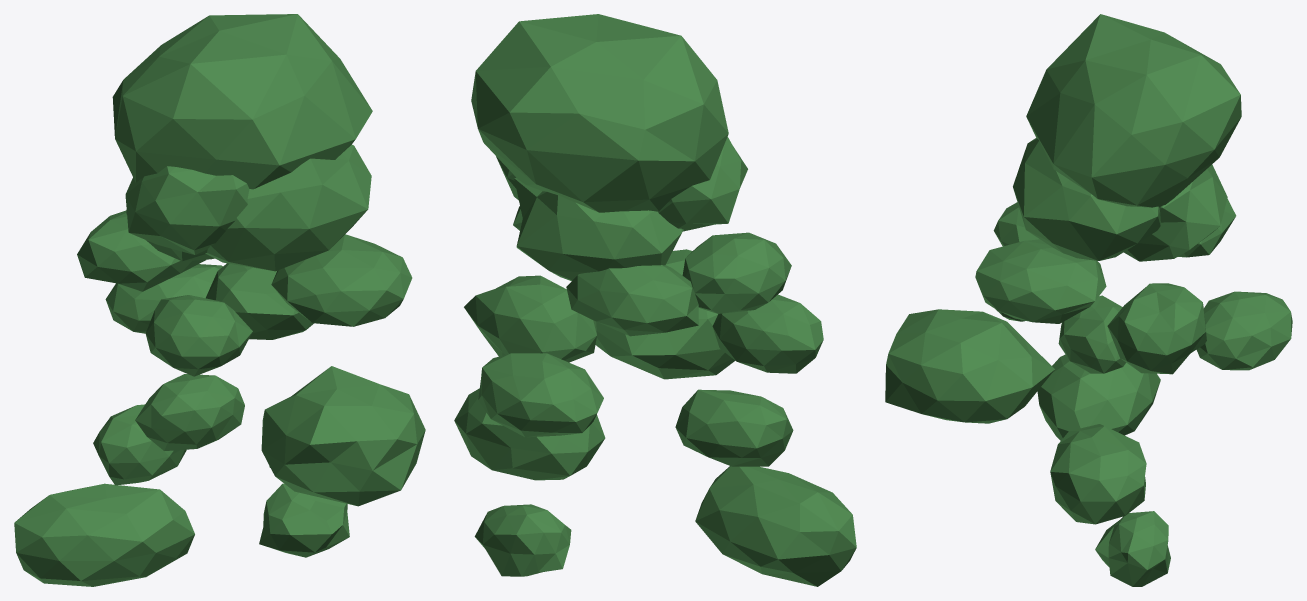
The model's file is Hojas1.glb.
The picture shows the model from 3 angles, left to right: view 1: azimuth 30°, elevation 25°; view 2: azimuth 150°, elevation 25°; view 3: azimuth 270°, elevation 25°; orthographic projection. The views are drawn at different scales.
Visible parts, largest first — view 1: Hojas1.002; view 2: Hojas1.002; view 3: Hojas1.002.
Part boxes in pixels (x1=…): Hojas1.002: x1=14, y1=14, x2=425, y2=586; Hojas1.002: x1=454, y1=14, x2=856, y2=586; Hojas1.002: x1=885, y1=14, x2=1292, y2=586.
Size of the model in its own units: 0.7819 by 1.05 by 0.7676.
